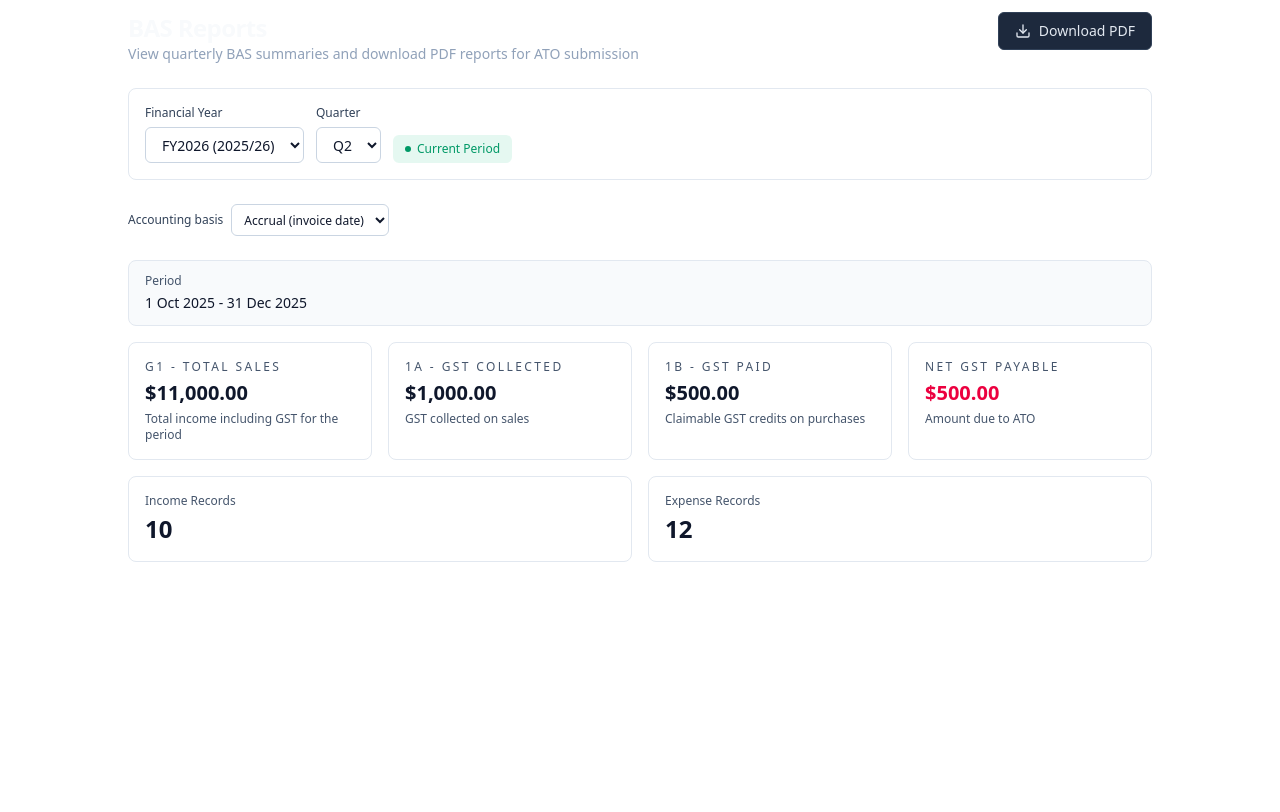
Test case: BasReportPage accounting basis (M02) › shows the reconciliation banner for paid incomes without a receipt date
// Select the CASH basis: unreconciled paid incomes are excluded there
Select "Cash (payment date)" in the dropdown labelled "Accounting basis" at (310, 220), box [231, 204, 389, 236]
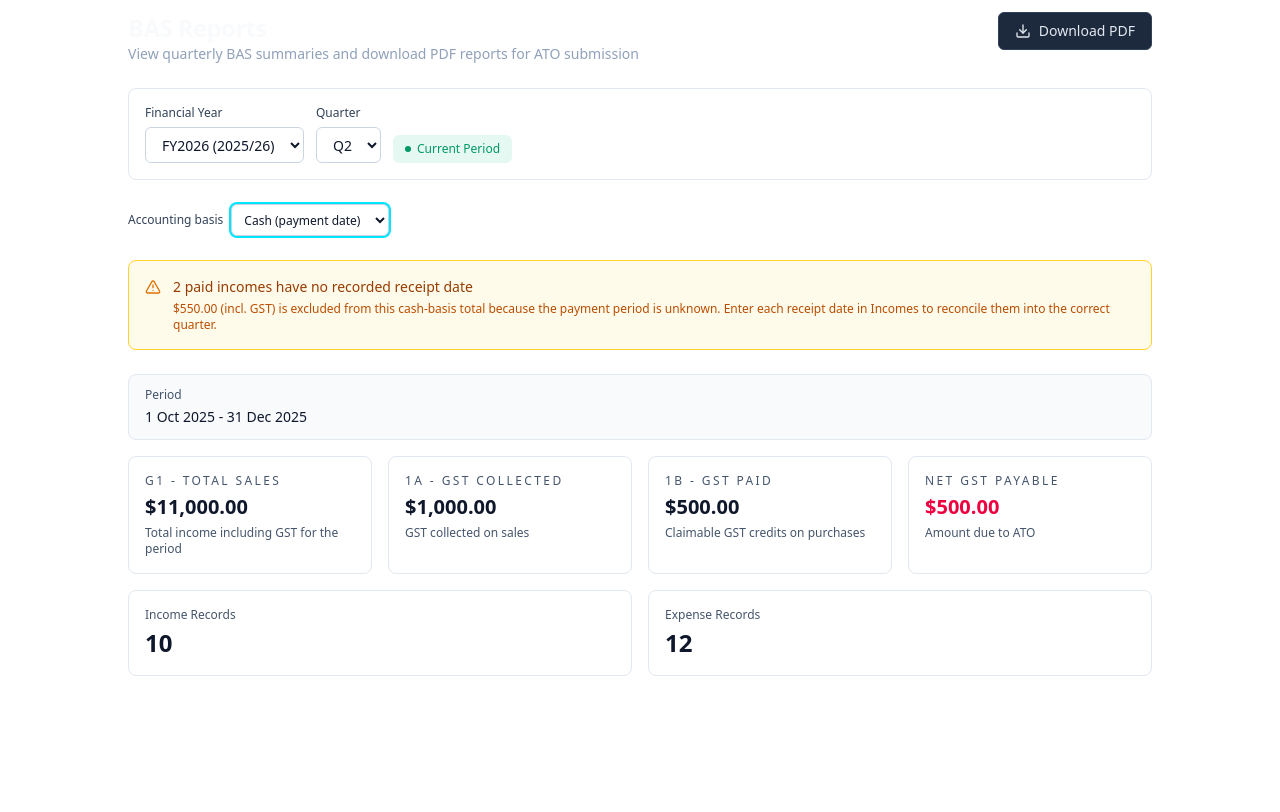
Now the message shows "2 paid incomes have no recorded receipt date", box [128, 260, 1152, 350]
Now the message shows "$550.00", box [173, 300, 217, 317]
